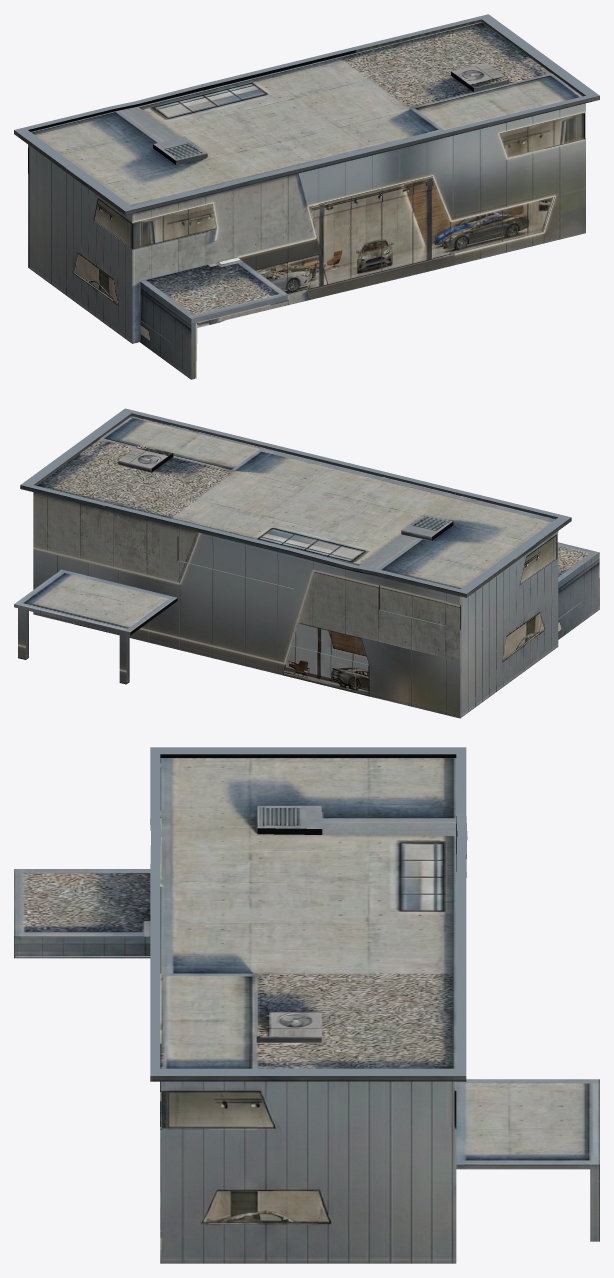
The model's file is car_showroom.glb.
The picture shows the model from 3 angles, top to bottom: view 1: azimuth 30°, elevation 25°; view 2: azimuth 150°, elevation 25°; view 3: azimuth 270°, elevation 25°; orthographic projection. The views are drawn at different scales.
Parts seen in each view (by area): view 1: Cube; view 2: Cube; view 3: Cube.
Part boxes in pixels (x1,y1,x2,y2): Cube: (14,14,599,379); Cube: (14,408,599,718); Cube: (14,747,599,1263).
Size of the model in its own units: 12.36 by 3.49 by 9.32.
1 material, 1 textured.
